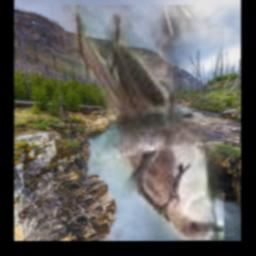Cuckoo: (50, 5, 224, 240)
